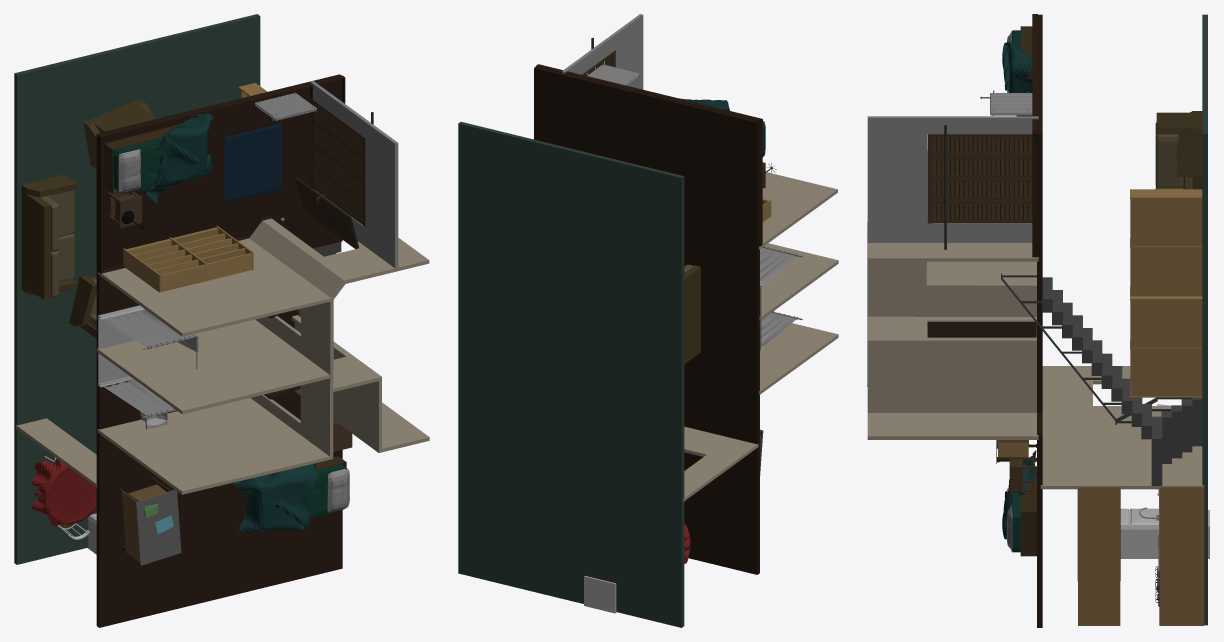
Rendered from scene_with_floor.obj.
The picture shows the model from 3 angles, left to right: view 1: azimuth 30°, elevation 25°; view 2: azimuth 150°, elevation 25°; view 3: azimuth 270°, elevation 25°; orthographic projection. The views are drawn at different scales.
Bounding box in the file's own units: 4.91 × 9.37 × 5.86.
1 material, 1 textured.
